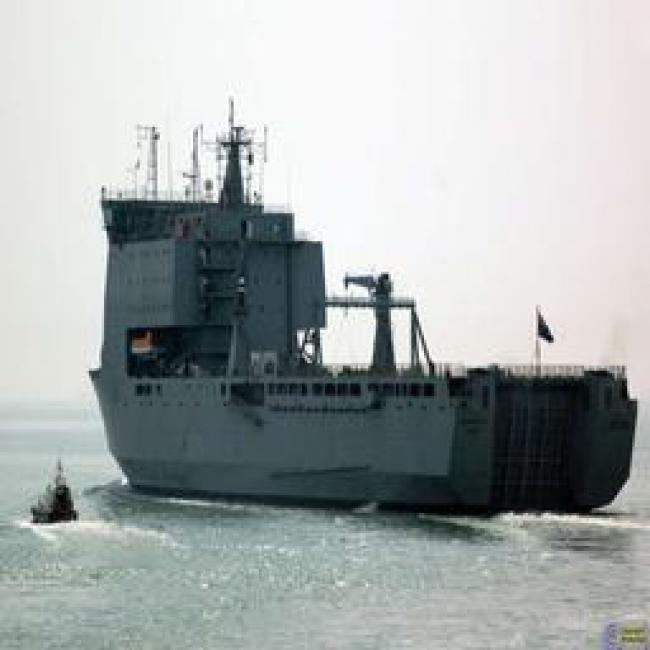Ship: (55, 317, 640, 527)
